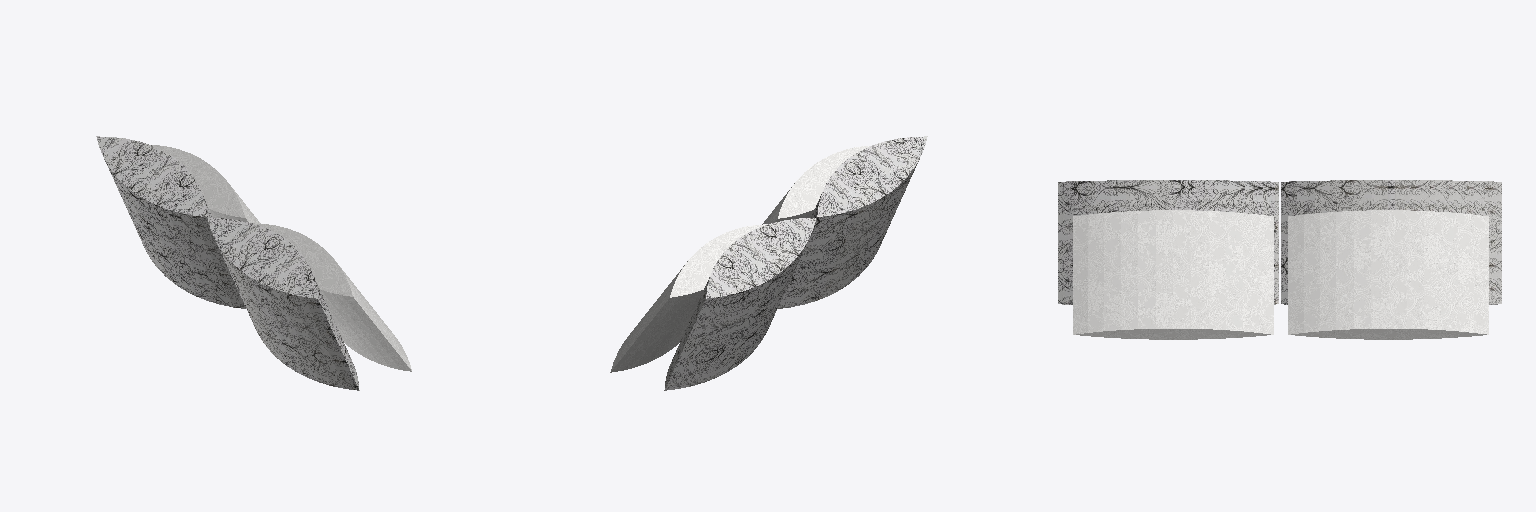
3 renders of one model, left to right at view 1: azimuth 30°, elevation 25°; view 2: azimuth 150°, elevation 25°; view 3: azimuth 270°, elevation 25°, orthographic.
Visible parts, largest first — view 1: Mesh4_Group_2_1_Interior_Fabric_BeddingQueenCompleteSet01_1.001; view 2: Mesh4_Group_2_1_Interior_Fabric_BeddingQueenCompleteSet01_1.001; view 3: Mesh4_Group_2_1_Interior_Fabric_BeddingQueenCompleteSet01_1.001.
Boxes of the visible parts, <box> form: Mesh4_Group_2_1_Interior_Fabric_BeddingQueenCompleteSet01_1.001: <box>96,136,411,390</box>; Mesh4_Group_2_1_Interior_Fabric_BeddingQueenCompleteSet01_1.001: <box>610,136,927,390</box>; Mesh4_Group_2_1_Interior_Fabric_BeddingQueenCompleteSet01_1.001: <box>1058,180,1501,339</box>.
Size of the model in its own units: 0.3541 by 0.3189 by 1.01.
Materials: 2 (2 with a texture image).